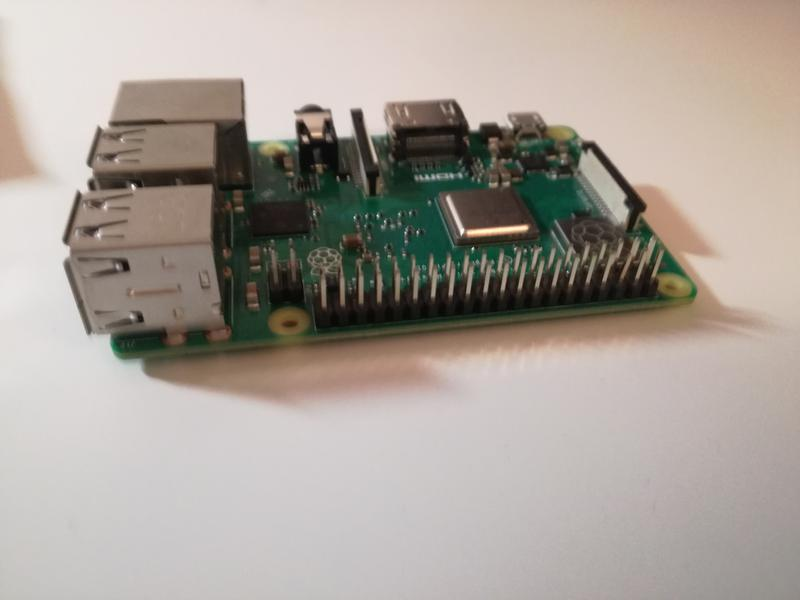Raspberry_Pi_3: (53, 68, 704, 363)
